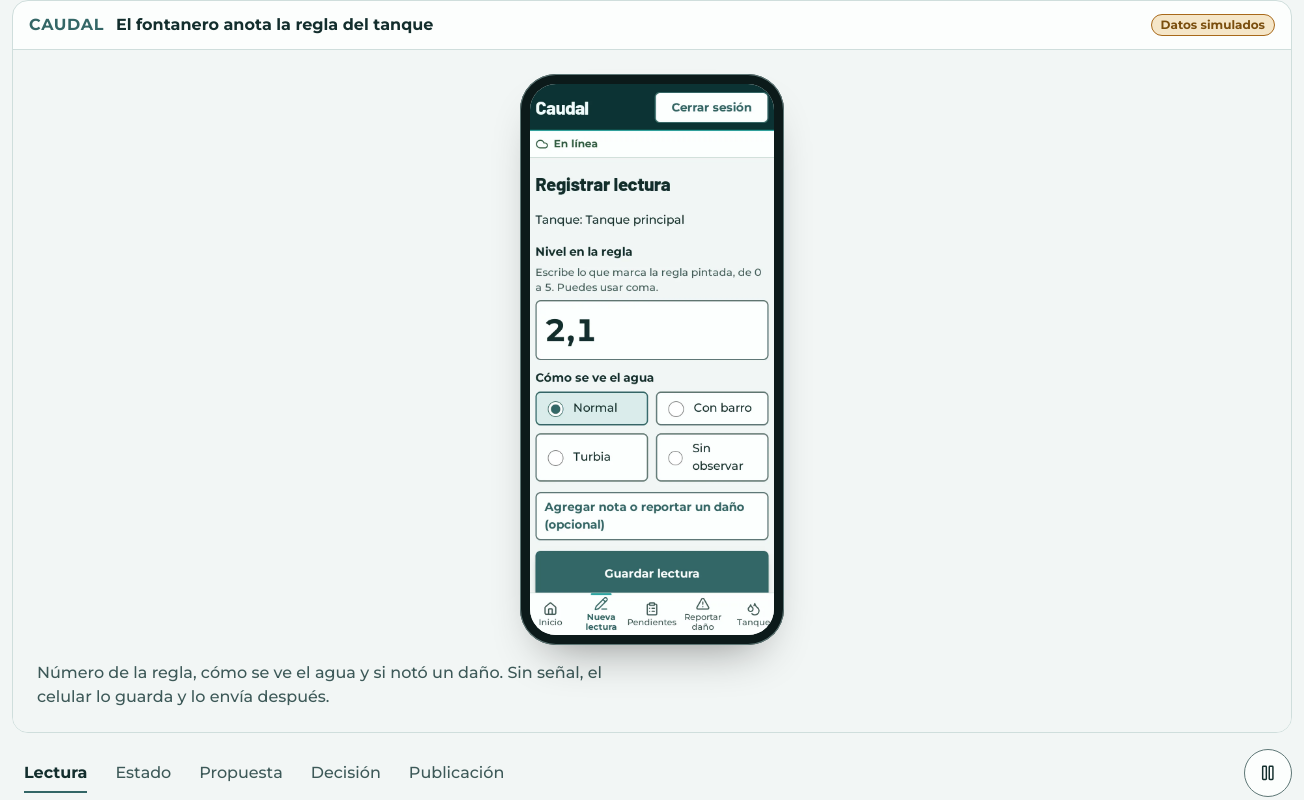
Scenario: FlowShowcase › shows the step of a tab the visitor clicks
Click the tab "Propuesta" at (241, 773), box [187,749,295,797]
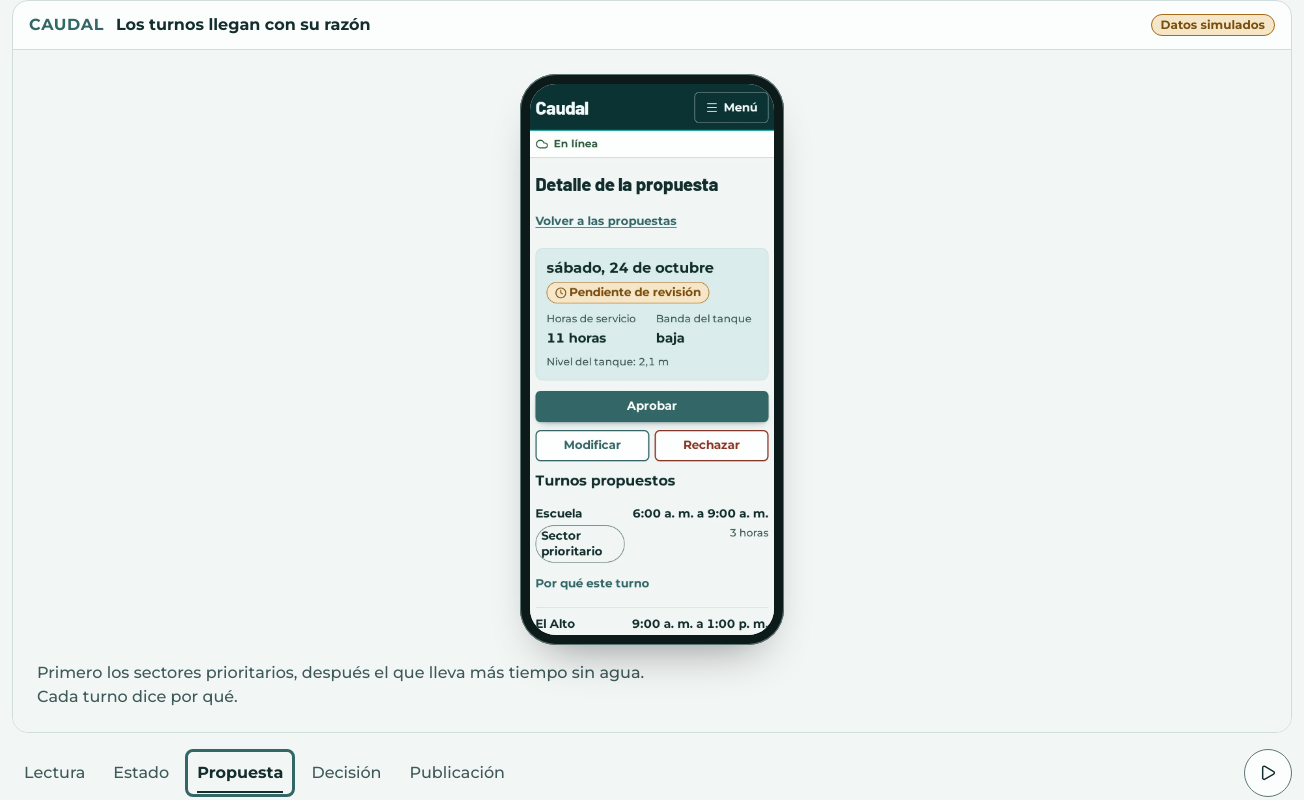
Expected: the text "Los turnos llegan con su razón" is shown, [116,15,371,34]
